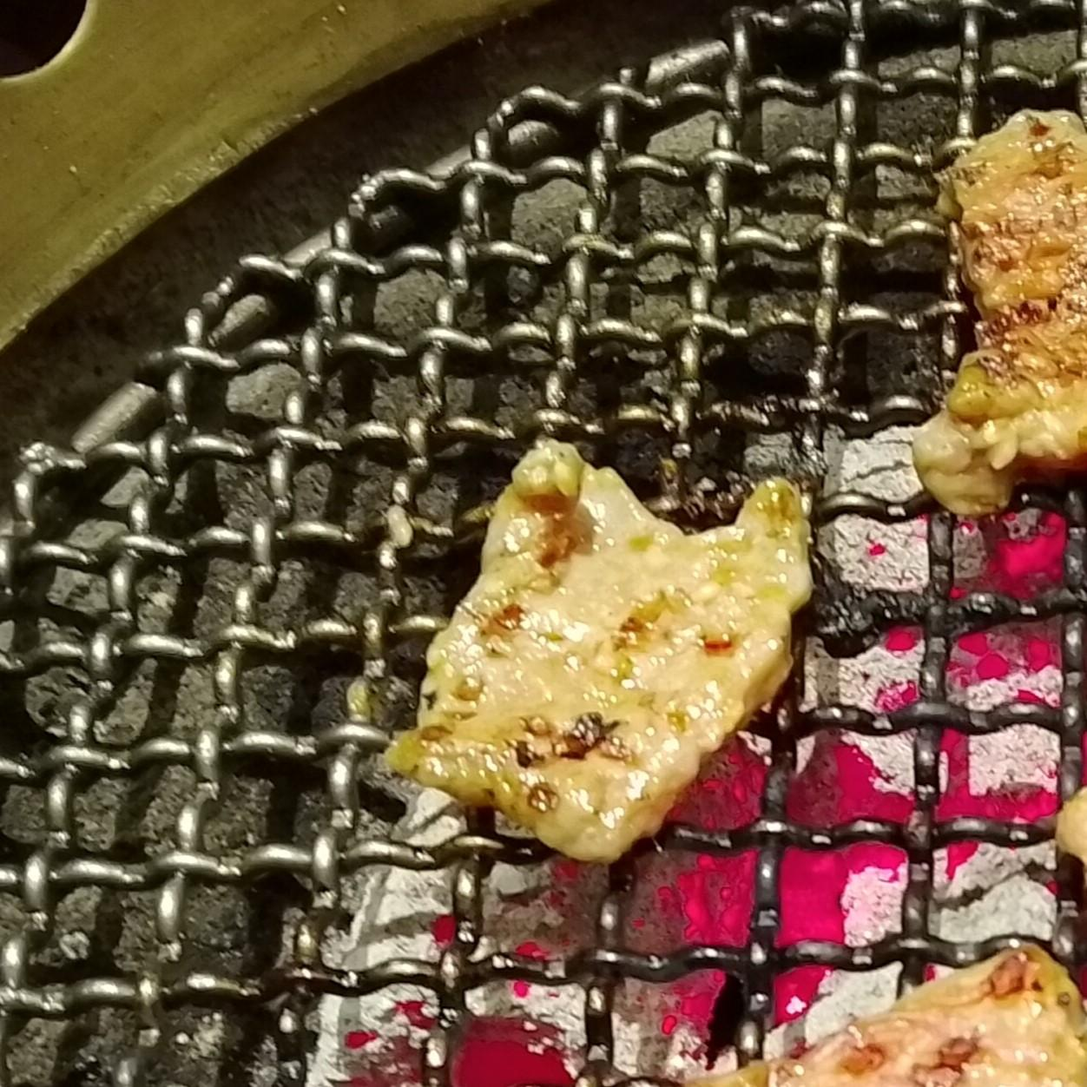Overcooked: (910, 109, 1086, 517)
Well-Cooked: (383, 441, 816, 868), (693, 947, 1086, 1086)
